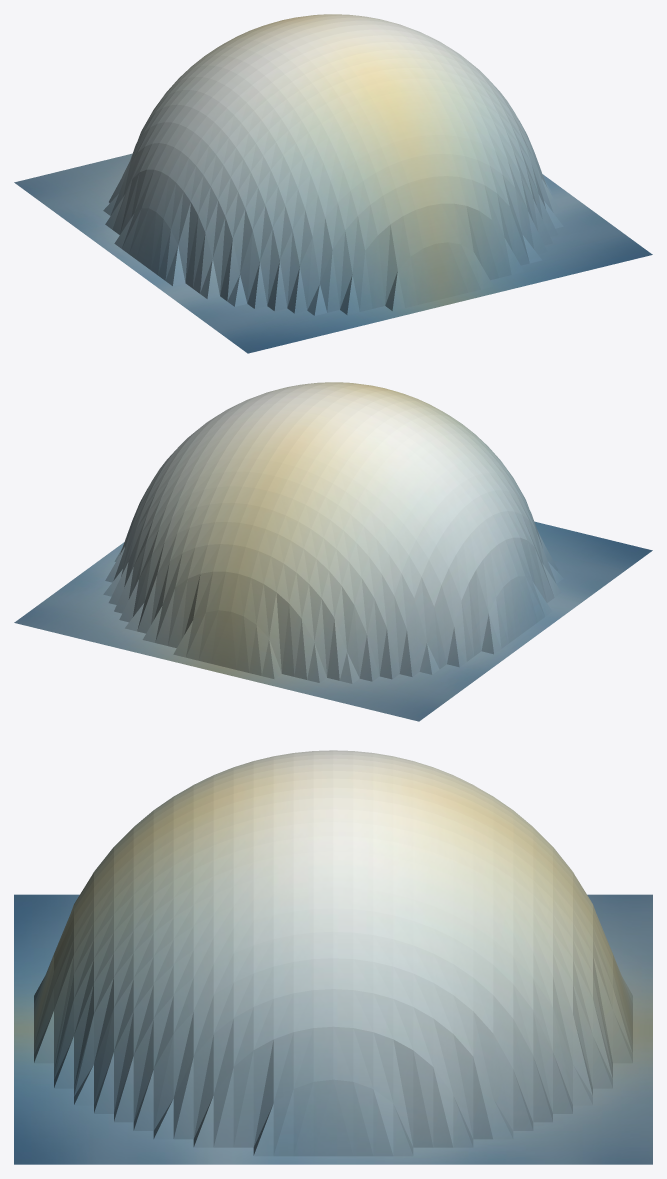
Rendered from sky.obj.
3 renders of one model, top to bottom at view 1: azimuth 30°, elevation 25°; view 2: azimuth 150°, elevation 25°; view 3: azimuth 270°, elevation 25°, orthographic. The views are drawn at different scales.
Parts seen in each view (by area): view 1: Plane.057_Plane.162; view 2: Plane.057_Plane.162; view 3: Plane.057_Plane.162.
Boxes of the visible parts, bbox=[...] form: Plane.057_Plane.162: bbox=[14, 14, 652, 353]; Plane.057_Plane.162: bbox=[14, 382, 652, 721]; Plane.057_Plane.162: bbox=[14, 750, 652, 1164].
Bounding box in the file's own units: 1204 × 522 × 1204.
1 material, 1 textured.
